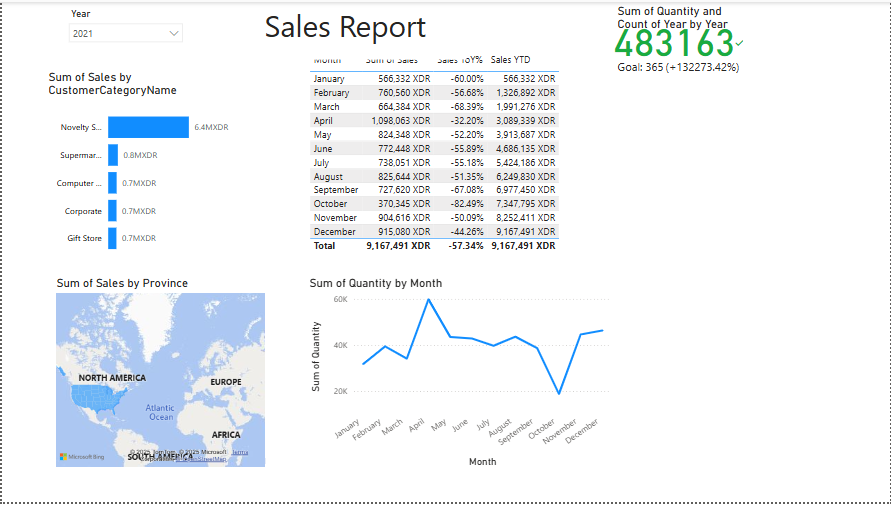

The dashboard page shown, as its layout file describes it:
{"tool":"powerbi","page":{"name":"Report","canvas":[1280,720],"ordinal":0},"visuals":[{"type":"clusteredBarChart","fields":{"Category":["MasterCustomer.CustomerCategoryName"],"Y":["Sum(InvoiceData.Sales)"]},"box":[61.4,98.6,311.4,280],"z":0},{"type":"slicer","fields":{"Values":["InvoiceData.Date.Variation.Date Hierarchy.Year"]},"box":[85.7,2.9,184.3,80],"z":1000},{"type":"tableEx","fields":{"Values":["InvoiceData.Date.Variation.Date Hierarchy.Month","Sum(InvoiceData.Sales)","InvoiceData.Sales YoY%","InvoiceData.Sales YTD"]},"box":[437.1,67.1,444.3,311.4],"z":1001},{"type":"filledMap","fields":{"Category":["MasterCustomer.Province"]},"box":[72.9,394.3,311.4,280],"z":1002},{"type":"lineChart","fields":{"Y":["Sum(InvoiceData.Quantity)"],"Category":["InvoiceData.Date.Variation.Date Hierarchy.Month"]},"box":[437.1,394.3,444.3,280],"z":1003},{"type":"textbox","box":[372.9,0,295.7,82.9],"z":1004},{"type":"kpi","fields":{"Indicator":["Sum(InvoiceData.Quantity)"],"TrendLine":["InvoiceData.Date.Variation.Date Hierarchy.Year"],"Goal":["CountNonNull(InvoiceData.Date.Variation.Date Hierarchy.Year)"]},"box":[881.4,2.9,185.7,115.7],"z":1005}]}

Visuals, with their boxes in screenshot pixels (x1, y1, x2, y2), scaled from the page's 1280x720 canvas onto the 891x508 screenshot:
clusteredBarChart - MasterCustomer.CustomerCategoryName x Sum(InvoiceData.Sales): <region>43, 70, 260, 267</region>
slicer - InvoiceData.Date.Variation.Date Hierarchy.Year: <region>60, 2, 188, 58</region>
tableEx - InvoiceData.Date.Variation.Date Hierarchy.Month x Sum(InvoiceData.Sales): <region>304, 47, 614, 267</region>
filledMap - MasterCustomer.Province: <region>51, 278, 268, 476</region>
lineChart - Sum(InvoiceData.Quantity) x InvoiceData.Date.Variation.Date Hierarchy.Month: <region>304, 278, 614, 476</region>
textbox: <region>260, 0, 465, 58</region>
kpi - Sum(InvoiceData.Quantity) x InvoiceData.Date.Variation.Date Hierarchy.Year: <region>614, 2, 743, 84</region>
